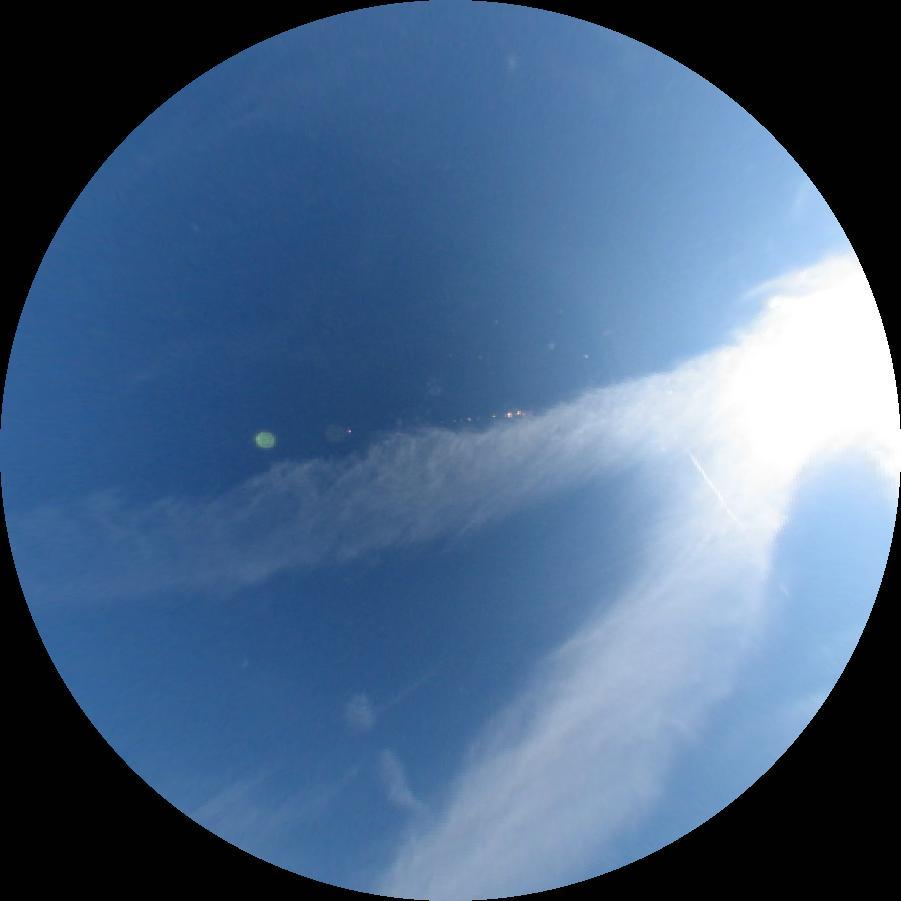contrail veryold: (11, 342, 762, 632), (336, 689, 437, 834)
contrail young: (689, 453, 747, 536)
unknow: (375, 668, 438, 714)
